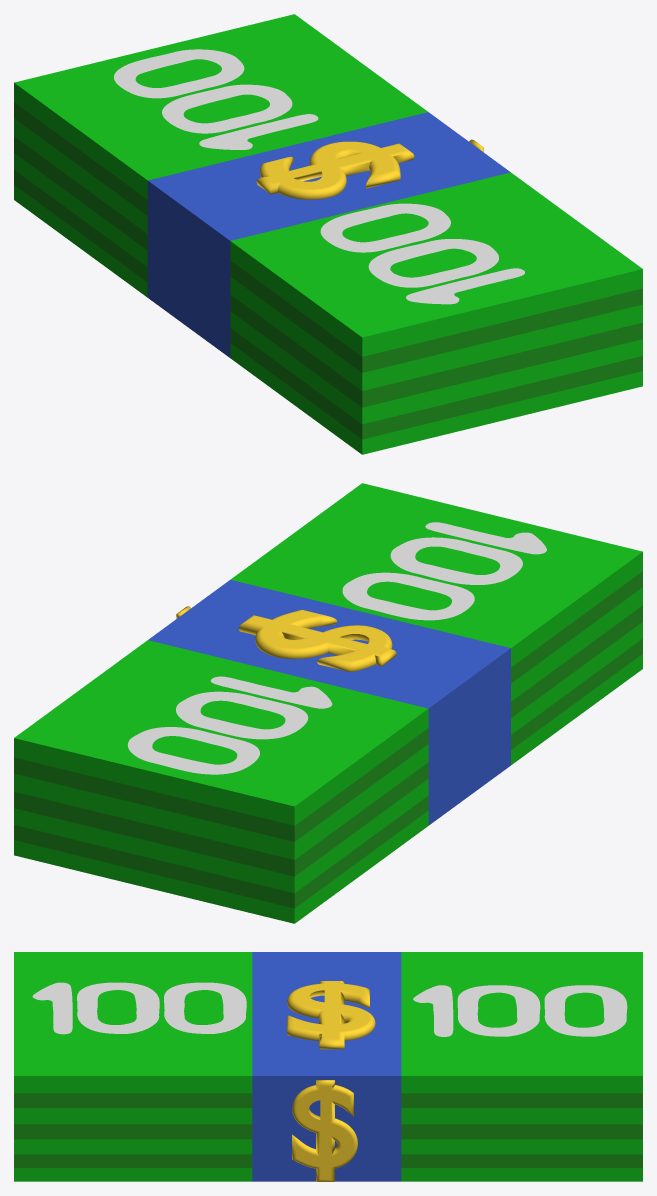
Rendered from dollars-3.fbx.
3 renders of one model, top to bottom at view 1: azimuth 30°, elevation 25°; view 2: azimuth 150°, elevation 25°; view 3: azimuth 270°, elevation 25°, orthographic. The views are drawn at different scales.
Visible parts, largest first — view 1: Cube.003, Text.014, Text.013, Text.015; view 2: Cube.003, Text.014, Text.013, Text.015; view 3: Cube.003, Text.013, Text.014, Text.015, Text.012.
Part boxes in pixels (<box>): Cube.003: <box>14,14,642,454</box>; Text.014: <box>114,49,318,149</box>; Text.013: <box>320,203,524,304</box>; Text.015: <box>256,141,414,199</box>; Cube.003: <box>14,483,642,923</box>; Text.014: <box>127,676,332,774</box>; Text.013: <box>342,522,546,620</box>; Text.015: <box>238,609,396,672</box>; Cube.003: <box>14,952,642,1181</box>; Text.013: <box>32,982,246,1034</box>; Text.014: <box>413,985,627,1036</box>; Text.015: <box>287,981,375,1049</box>; Text.012: <box>292,1080,357,1181</box>.
Bounding box in the file's own units: 57.45 × 23.79 × 119.
